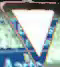Give way: (0, 0, 59, 62)
